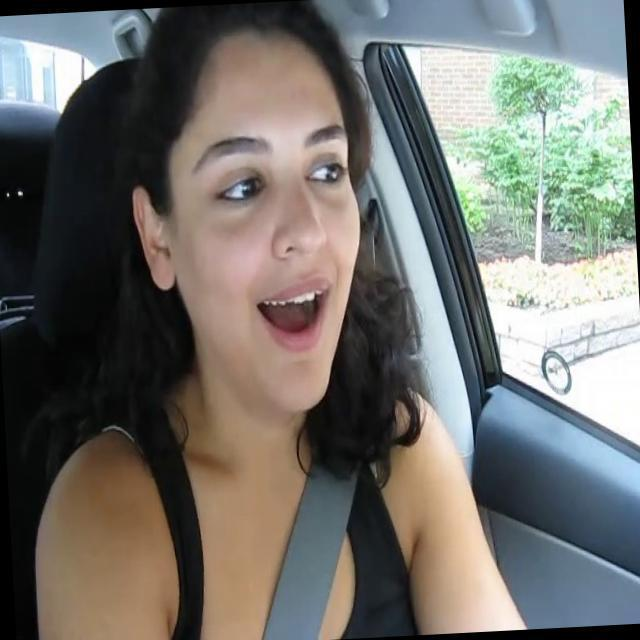open-mouth: (256, 276, 330, 351)
